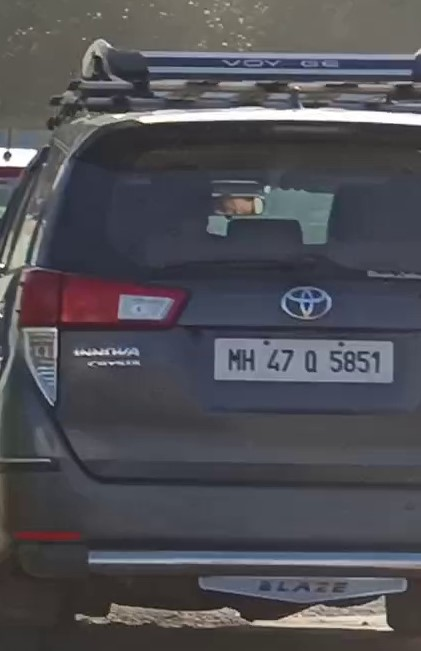MH4705851: (211, 335, 394, 384)
